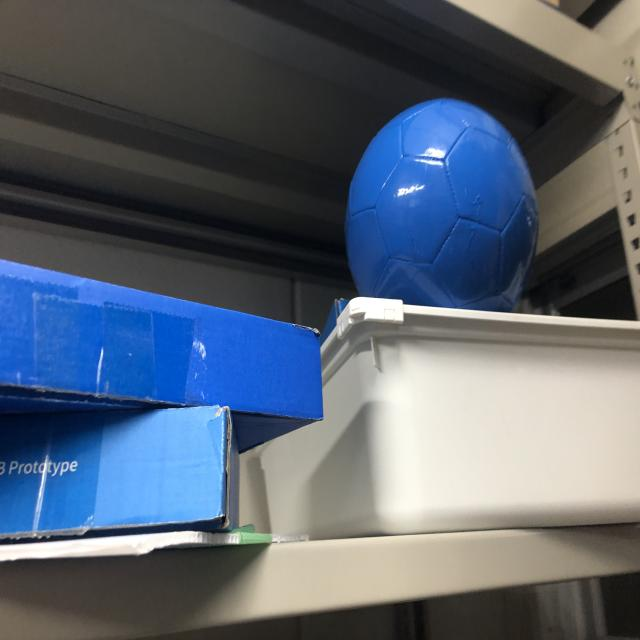blue_ball: (341, 96, 534, 322)
